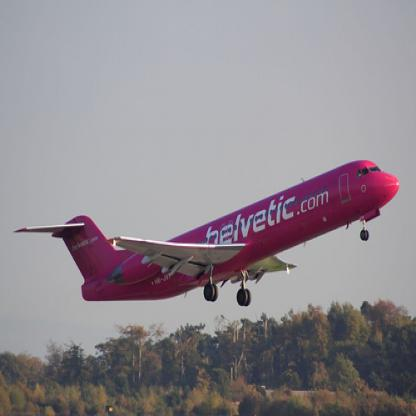aeroplane: (10, 154, 401, 306)
